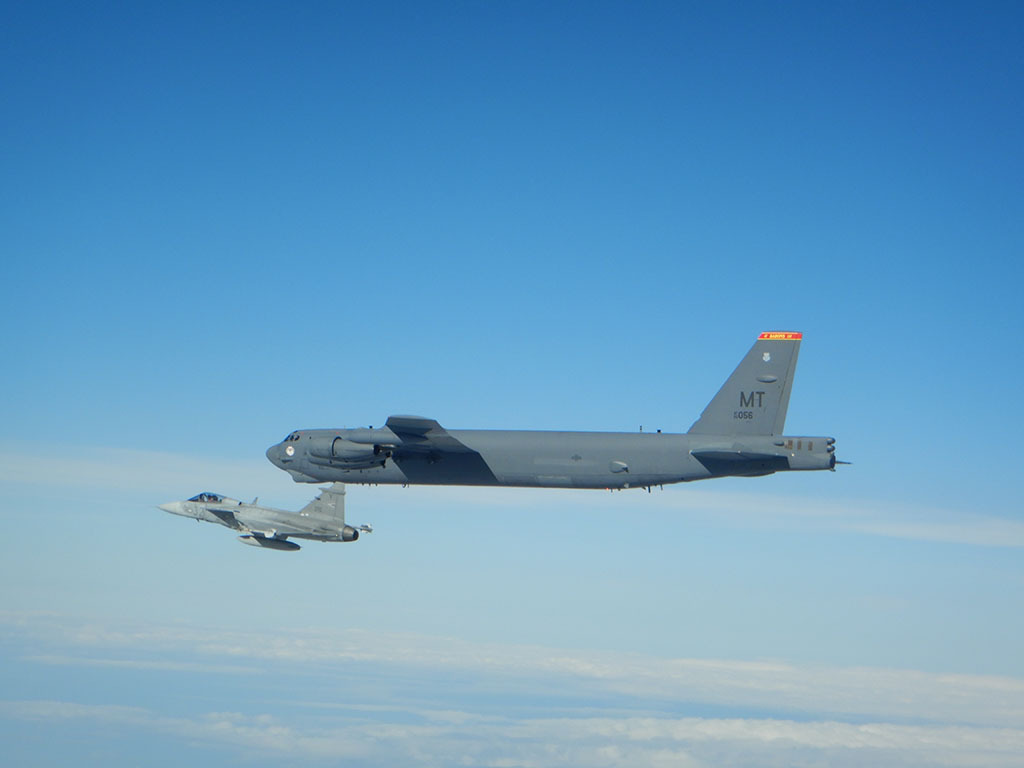B52: (264, 330, 854, 494)
JAS39: (146, 481, 374, 552)
